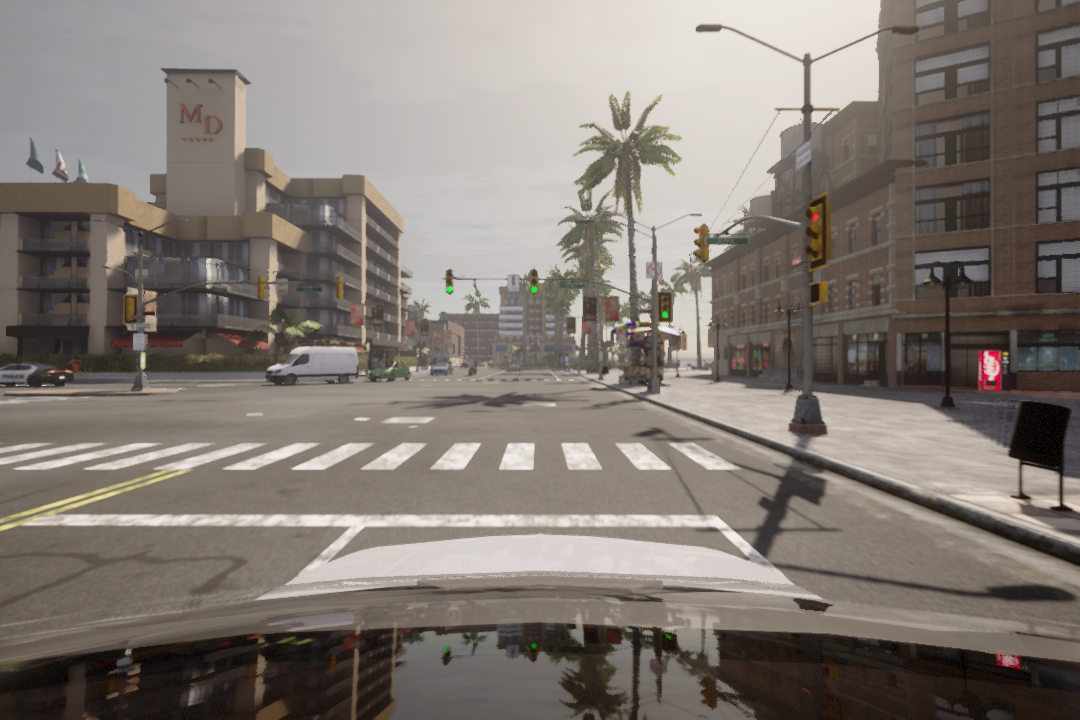TrafficLight: (803, 197, 835, 277), (693, 221, 708, 266), (526, 266, 540, 297), (661, 293, 674, 324), (444, 265, 455, 294)
TrafficSign: (646, 261, 664, 279)
walkside: (2, 441, 752, 477)
